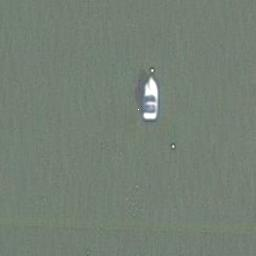boat: (138, 74, 160, 122)
